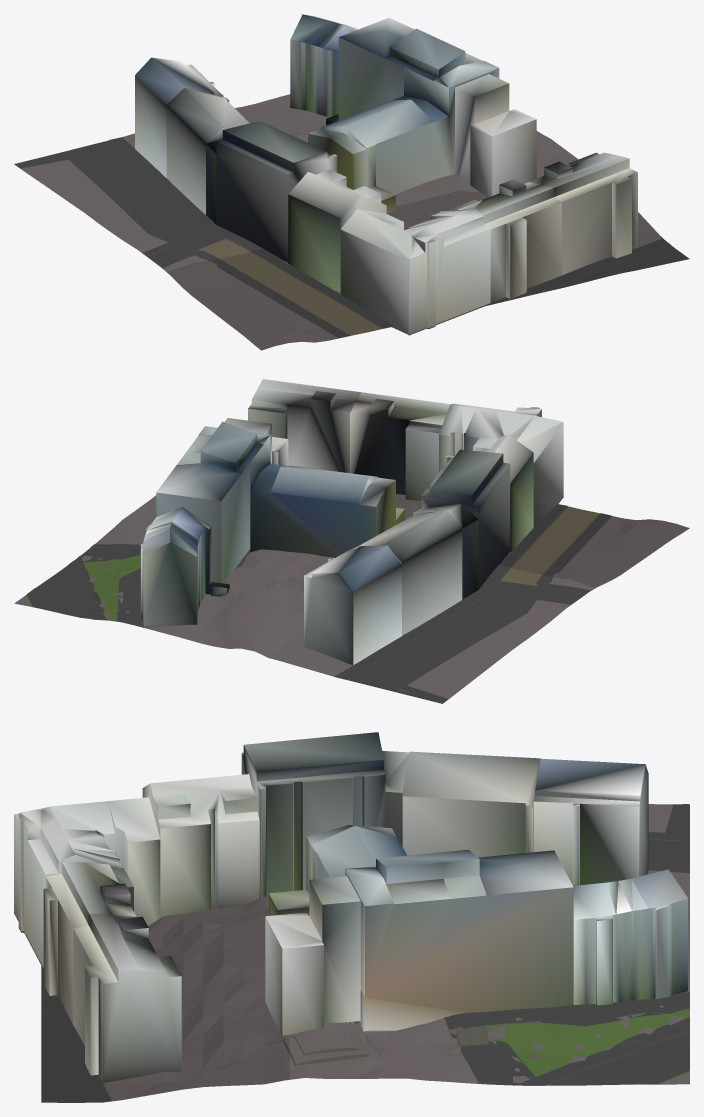
The picture shows the model from 3 angles, top to bottom: view 1: azimuth 30°, elevation 25°; view 2: azimuth 150°, elevation 25°; view 3: azimuth 270°, elevation 25°; orthographic projection. The views are drawn at different scales.
Parts seen in each view (by area): view 1: c_m12_m08, append:c_m12_m08; view 2: c_m12_m08, append:c_m12_m08; view 3: c_m12_m08, append:c_m12_m08.
Boxes of the visible parts, left/top/right/bottom form: c_m12_m08: left=166, top=18, right=689, bottom=350; append:c_m12_m08: left=14, top=14, right=578, bottom=271; c_m12_m08: left=156, top=379, right=689, bottom=703; append:c_m12_m08: left=14, top=495, right=594, bottom=703; c_m12_m08: left=14, top=732, right=688, bottom=1102; append:c_m12_m08: left=289, top=758, right=689, bottom=1085.
Size of the model in its own units: 128 by 38.3 by 133.
